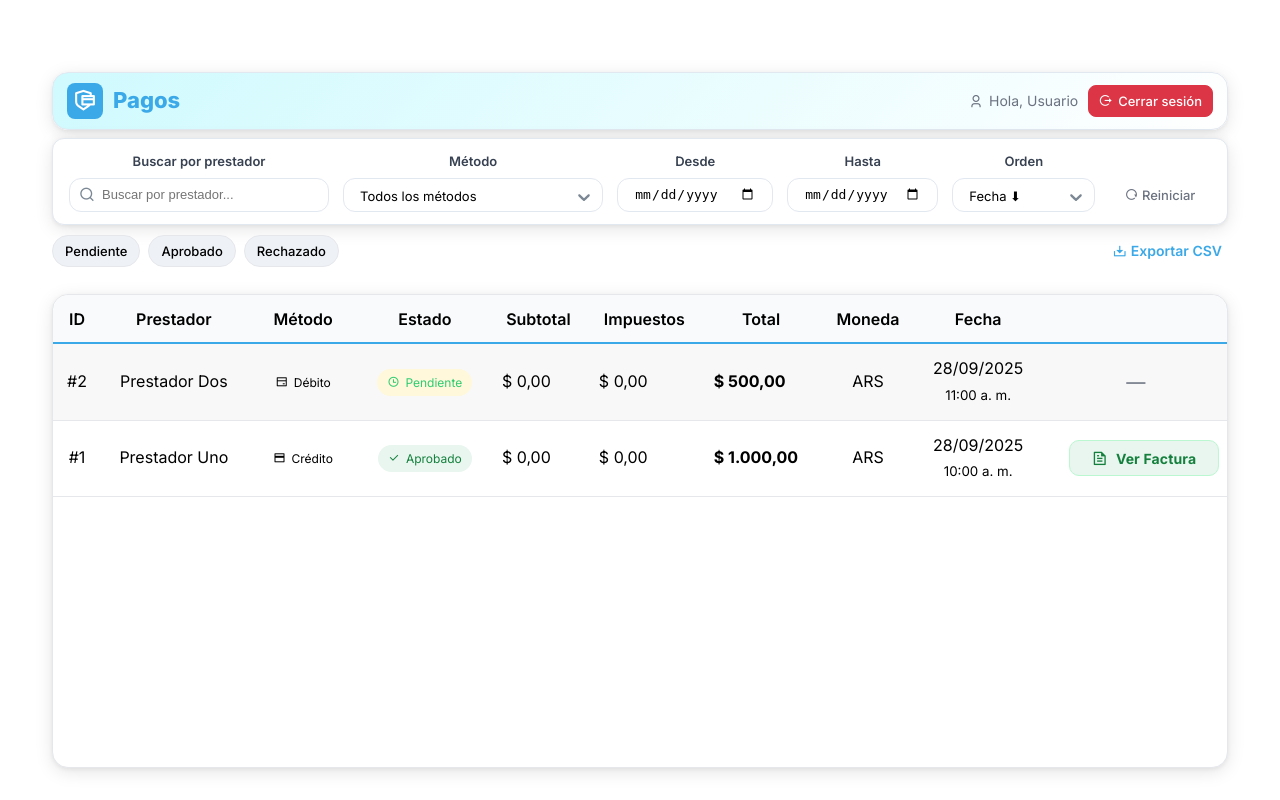
Test: PagosLista filtro por prestador › filtra la lista por nombre de prestador
Expected: the text "Prestador Uno" is shown, [101, 420, 247, 496]
Expected: the text "Prestador Dos" is shown, [101, 344, 247, 420]
// Filtrar por "Prestador Uno"
Type "Uno" into the field with placeholder "Buscar por prestador..." at (199, 195), box [69, 178, 329, 212]
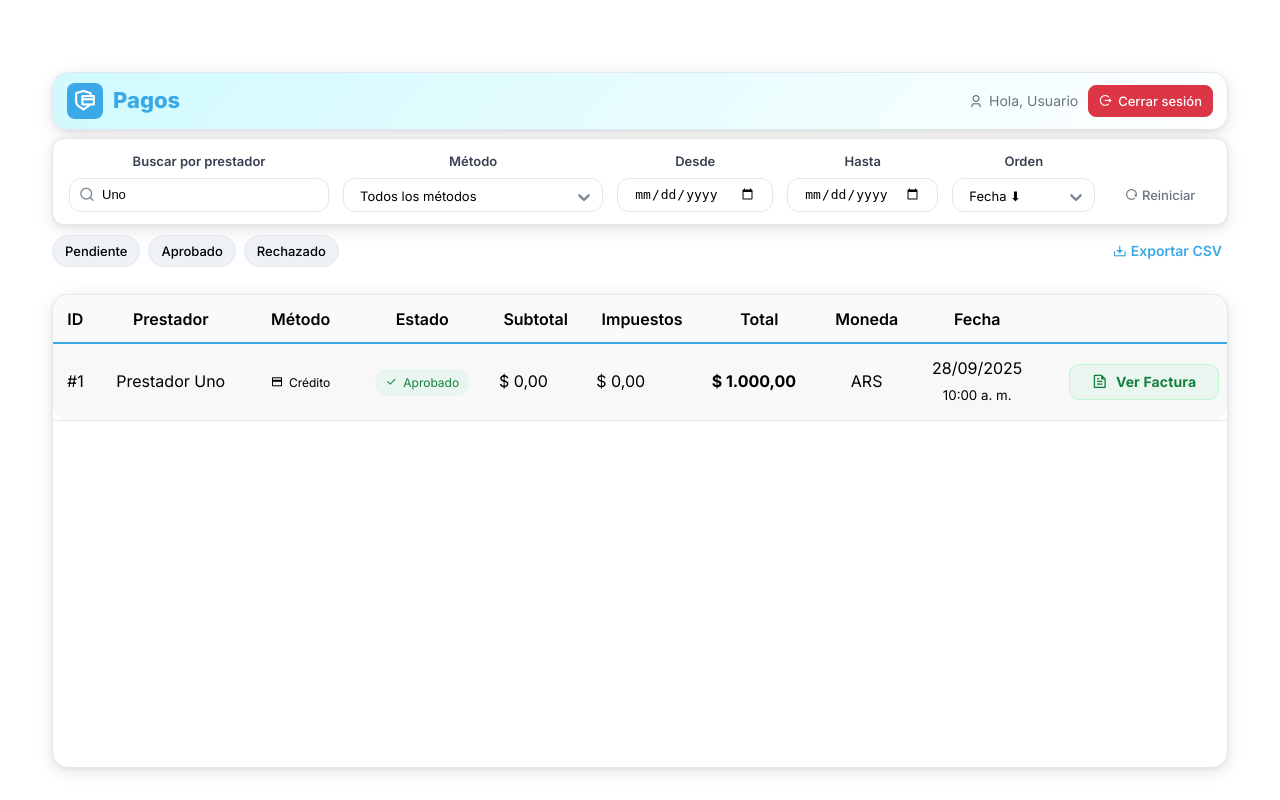
Expected: the text "Prestador Uno" is shown, [98, 344, 244, 420]
Expected: the text "Prestador Dos" is gone
